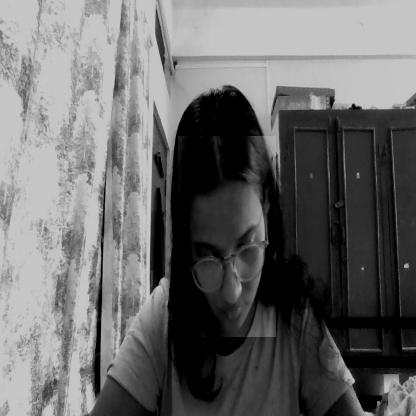Distracted: (178, 136, 276, 337)
